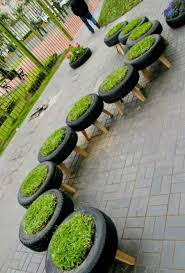tire: (44, 203, 119, 273), (17, 188, 74, 252), (18, 161, 64, 211), (35, 124, 79, 167), (97, 61, 141, 103), (124, 32, 168, 71), (65, 91, 105, 132), (123, 17, 164, 53), (117, 15, 150, 44), (105, 19, 127, 46), (68, 46, 92, 69)
